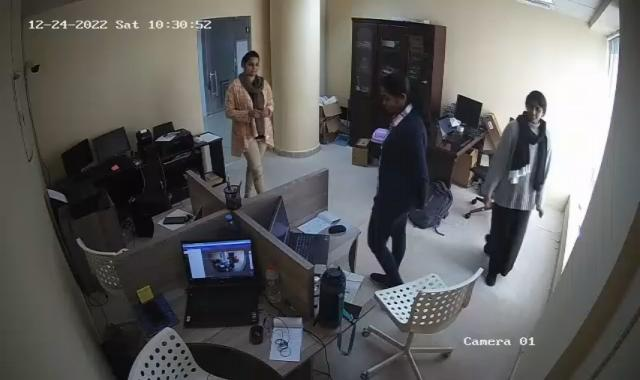no_hairnet: (379, 72, 417, 119), (520, 88, 548, 123), (237, 49, 264, 82)
